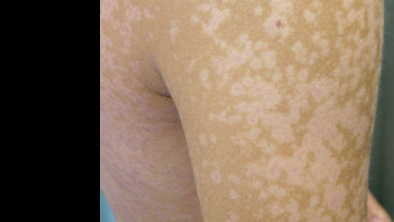SJS-TEN: (100, 0, 385, 222)
